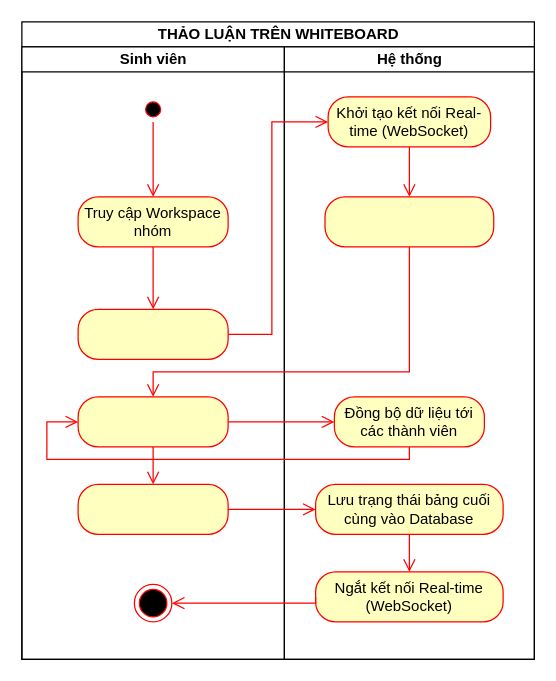
This 556x681 diagram has some shape labels left out. Here are the shapes that lost their labels. From the top down, the centre of each, then its label:
At [409,221]: "Tải nội dung bảng trắng hiện tại".
At [152,333]: "Mở Whiteboard".
At [152,421]: "Vẽ/Viết/Thêm ghi chú".
At [152,508]: "Nhấn nút Kết thúc/Thoát".
